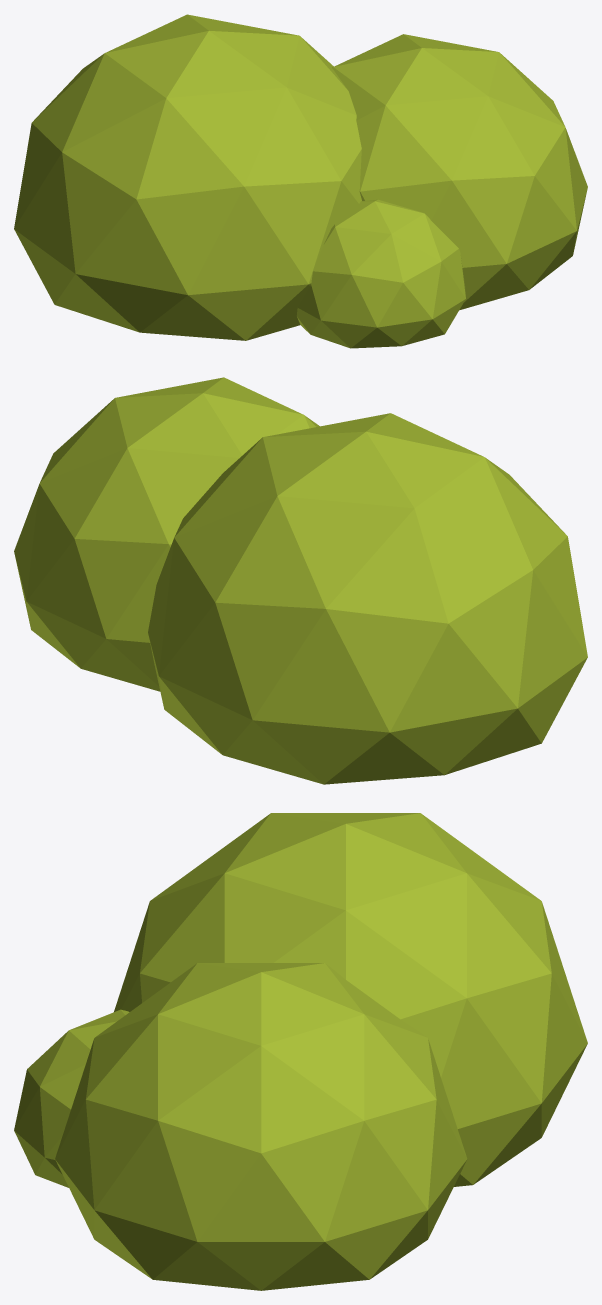
The model's file is Bush.fbx.
3 views of the same model, one above another, from view 1: azimuth 30°, elevation 25°; view 2: azimuth 150°, elevation 25°; view 3: azimuth 270°, elevation 25° (orthographic). The views are drawn at different scales.
Parts seen in each view (by area): view 1: Busch01; view 2: Busch01; view 3: Busch01.
Boxes of the visible parts, left/top/right/bottom form: Busch01: left=14, top=14, right=587, bottom=348; Busch01: left=14, top=377, right=587, bottom=784; Busch01: left=14, top=813, right=587, bottom=1290.
Bounding box in the file's own units: 2.79 × 1.31 × 2.37.
